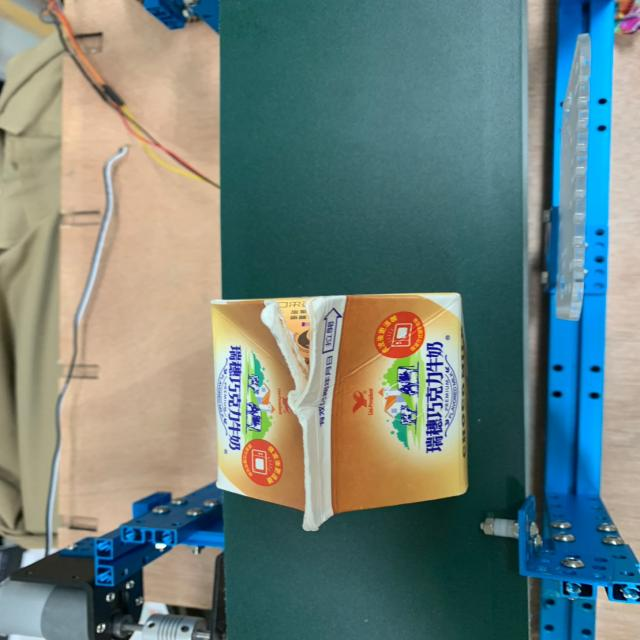non_white_jug: (195, 272, 507, 522)
